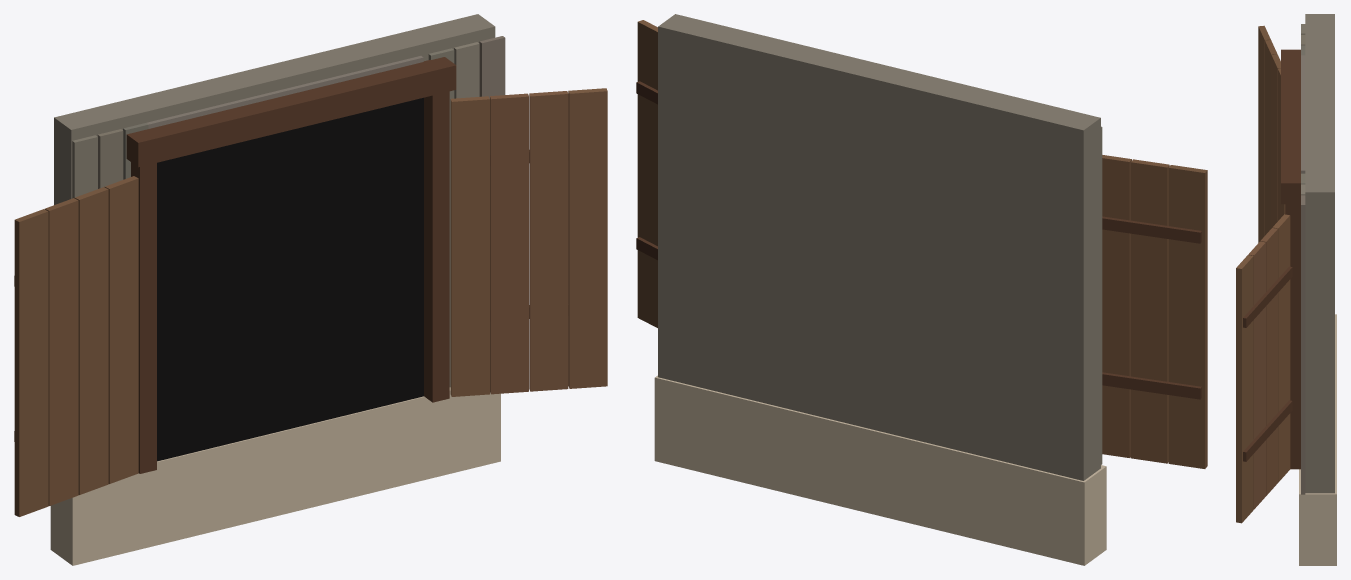
Rendered from porton_doble.glb.
3 renders of one model, left to right at view 1: azimuth 30°, elevation 25°; view 2: azimuth 150°, elevation 25°; view 3: azimuth 270°, elevation 25°, orthographic. The views are drawn at different scales.
Visible parts, largest first — view 1: porton_doble_fijo; view 2: porton_doble_fijo; view 3: porton_doble_fijo.
Part boxes in pixels (left/top/right/bottom): porton_doble_fijo: left=14, top=14, right=607, bottom=565; porton_doble_fijo: left=636, top=14, right=1207, bottom=565; porton_doble_fijo: left=1236, top=14, right=1336, bottom=565.
Size of the model in its own units: 5.46 by 3.9 by 0.9573.
